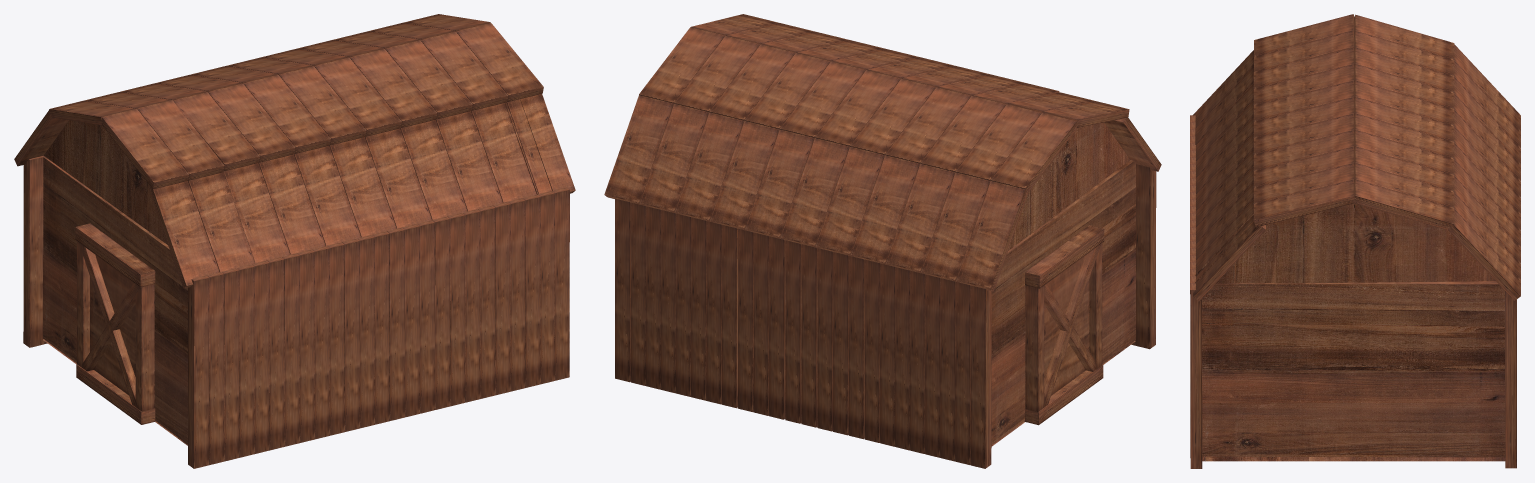
The picture shows the model from 3 angles, left to right: view 1: azimuth 30°, elevation 25°; view 2: azimuth 150°, elevation 25°; view 3: azimuth 270°, elevation 25°; orthographic projection. The views are drawn at different scales.
Visible parts, largest first — view 1: Wall001, Line003, Box049, Box101, Box025, Box111, Box104, Box106, Box110, Box105, Box109, Box107 (+57 smaller); view 2: Wall001, Line003, Box057, Box025, Box067, Box059, Box066, Box062, Box061, Box063, Box064, Box065 (+56 smaller); view 3: Wall002, Line002, Box100, Box089, Box119, Box120, Box067, Box111, Box098, Box099, Box094, Box095 (+37 smaller).
Part boxes in pixels (x1,y1,x2,y2): Wall001: (42,155,187,444); Line003: (44,120,167,244); Box049: (188,275,209,468); Box101: (148,181,219,288); Box025: (23,156,44,347); Box111: (506,94,575,193); Box104: (258,154,325,254); Box106: (329,137,396,237); Box110: (471,102,538,202); Box105: (294,146,361,245); Box109: (436,111,502,211); Box107: (365,128,431,228); Wall001: (991,160,1135,444); Line003: (1008,122,1130,250); Box057: (956,181,1028,291); Box025: (970,285,991,468); Box067: (604,95,673,204); Box059: (885,163,955,273); Box066: (639,103,709,213); Box062: (780,138,849,247); Box061: (815,146,884,256); Box063: (745,129,814,239); Box064: (710,121,779,230); Box065: (674,112,744,221); Wall002: (1202,281,1505,457); Line002: (1195,203,1495,283); Box100: (1253,180,1354,227); Box089: (1353,179,1454,230); Box119: (1190,283,1202,468); Box120: (1505,291,1516,468); Box067: (1448,209,1520,300); Box111: (1193,216,1265,301); Box098: (1253,147,1354,187); Box099: (1253,163,1354,203); Box094: (1253,81,1354,121); Box095: (1253,97,1354,137).
Size of the model in its own units: 114 by 81.29 by 87.89.
2 materials, 2 textured.
